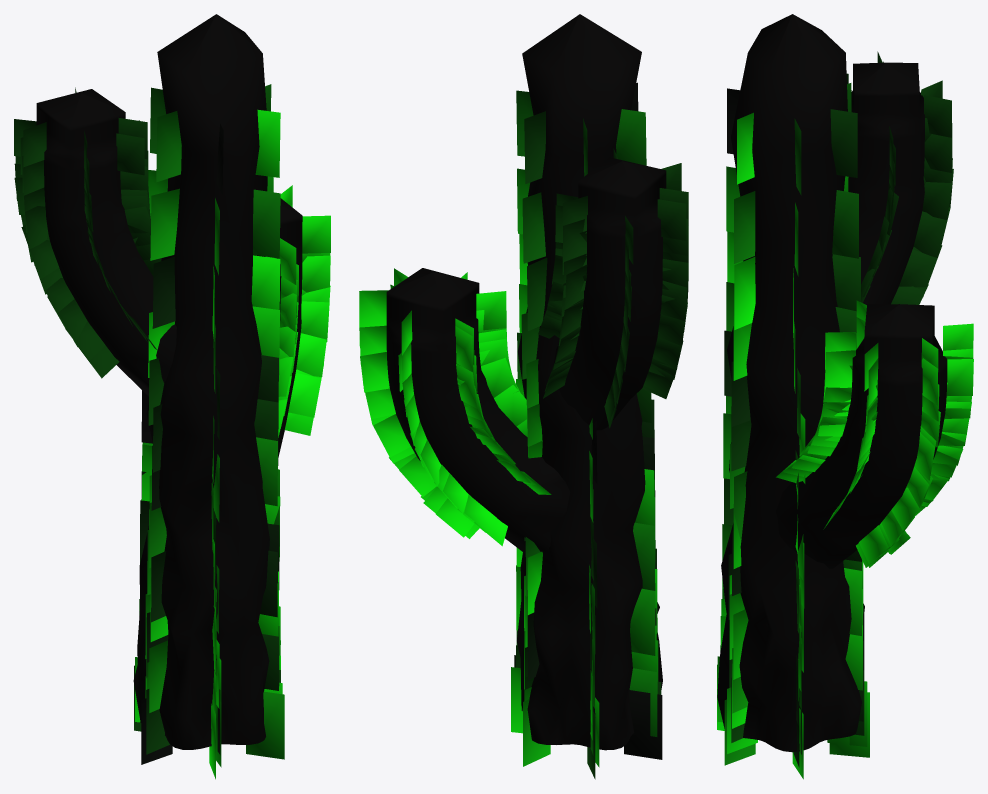
Rendered from Cactus_1_11.fbx.
3 renders of one model, left to right at view 1: azimuth 30°, elevation 25°; view 2: azimuth 150°, elevation 25°; view 3: azimuth 270°, elevation 25°, orthographic.
Parts seen in each view (by area): view 1: Cactus_1_11; view 2: Cactus_1_11; view 3: Cactus_1_11.
Boxes of the visible parts, x1=… form: Cactus_1_11: x1=14, y1=14, x2=330, y2=779; Cactus_1_11: x1=359, y1=14, x2=688, y2=779; Cactus_1_11: x1=717, y1=14, x2=973, y2=779.
Bounding box in the file's own units: 171 × 393 × 124.
